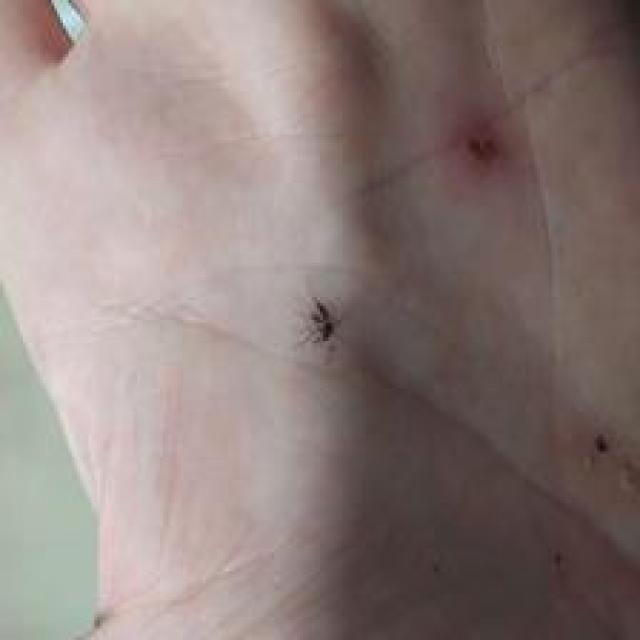Aedes albopictus: (293, 294, 344, 354)
